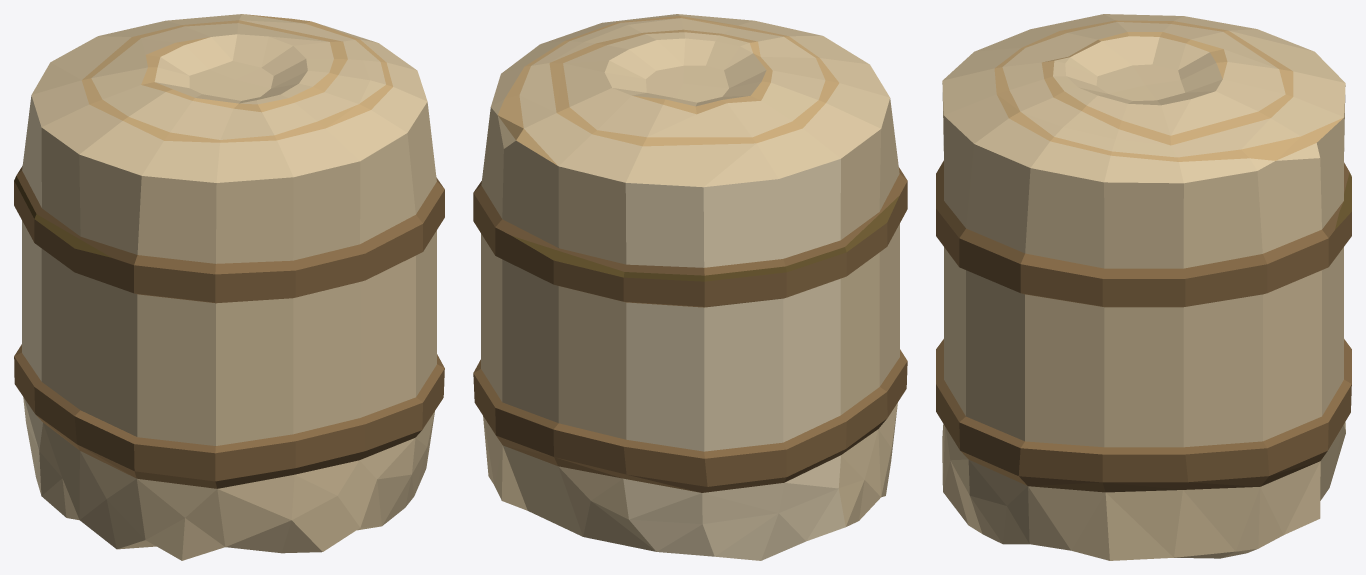
Rendered from EA_M_HayBale_Dry_01c.fbx.
The picture shows the model from 3 angles, left to right: view 1: azimuth 30°, elevation 25°; view 2: azimuth 150°, elevation 25°; view 3: azimuth 270°, elevation 25°; orthographic projection. The views are drawn at different scales.
Parts seen in each view (by area): view 1: EA_M_HayBale_Dry_01c_LOD0; view 2: EA_M_HayBale_Dry_01c_LOD0; view 3: EA_M_HayBale_Dry_01c_LOD0.
Boxes of the visible parts, x1,y1,x2,y2 form: EA_M_HayBale_Dry_01c_LOD0: (14,14,444,560); EA_M_HayBale_Dry_01c_LOD0: (473,14,907,560); EA_M_HayBale_Dry_01c_LOD0: (936,14,1351,560).
Size of what is drawn, in the model's own units: 1.99 by 2.33 by 1.99.
